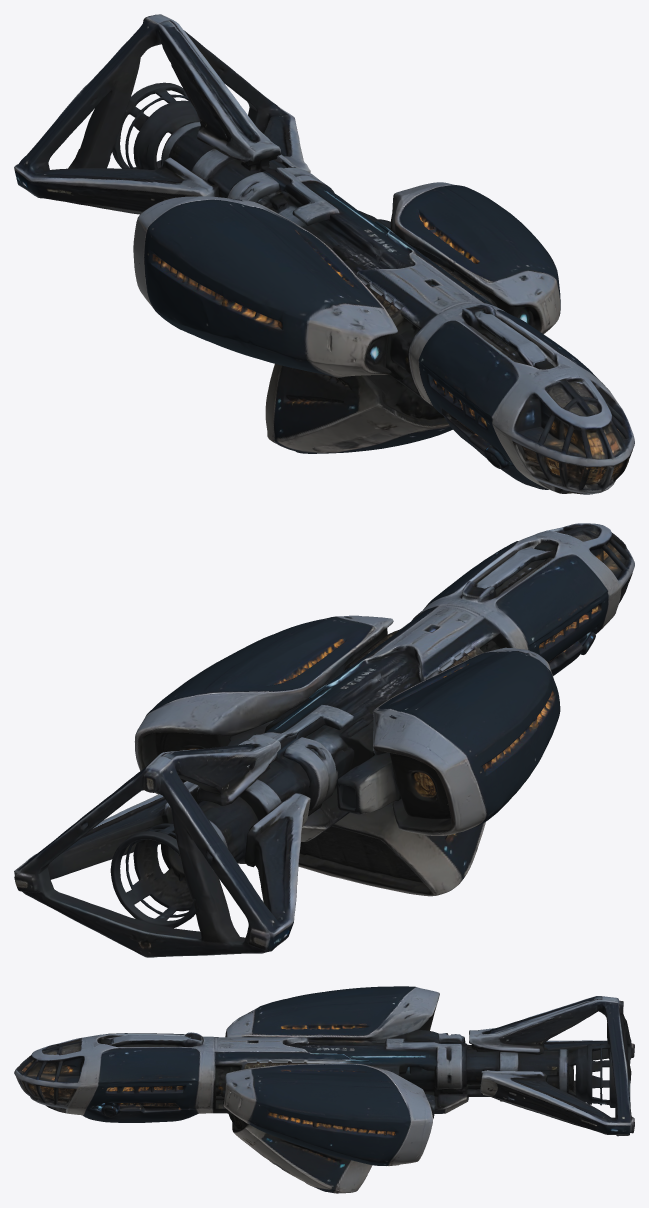
The model's file is lantern-tripo-h3_1.glb.
3 renders of one model, top to bottom at view 1: azimuth 30°, elevation 25°; view 2: azimuth 150°, elevation 25°; view 3: azimuth 270°, elevation 25°, orthographic. The views are drawn at different scales.
Visible parts, largest first — view 1: tripo_node_f1fb5437-f1ca-43de-9fa8-e293d7938059; view 2: tripo_node_f1fb5437-f1ca-43de-9fa8-e293d7938059; view 3: tripo_node_f1fb5437-f1ca-43de-9fa8-e293d7938059.
Part boxes in pixels (x1,y1,x2,y2): tripo_node_f1fb5437-f1ca-43de-9fa8-e293d7938059: (14, 14, 634, 494); tripo_node_f1fb5437-f1ca-43de-9fa8-e293d7938059: (14, 523, 634, 957); tripo_node_f1fb5437-f1ca-43de-9fa8-e293d7938059: (14, 986, 634, 1193).
Size of the model in its own units: 0.4157 by 0.3107 by 1.
1 material, 1 textured.
